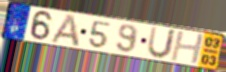5: (88, 20, 113, 49)
6: (29, 10, 54, 42)
9: (115, 23, 139, 54)
A: (48, 13, 81, 48)
H: (168, 31, 206, 65)
U: (145, 25, 178, 60)
